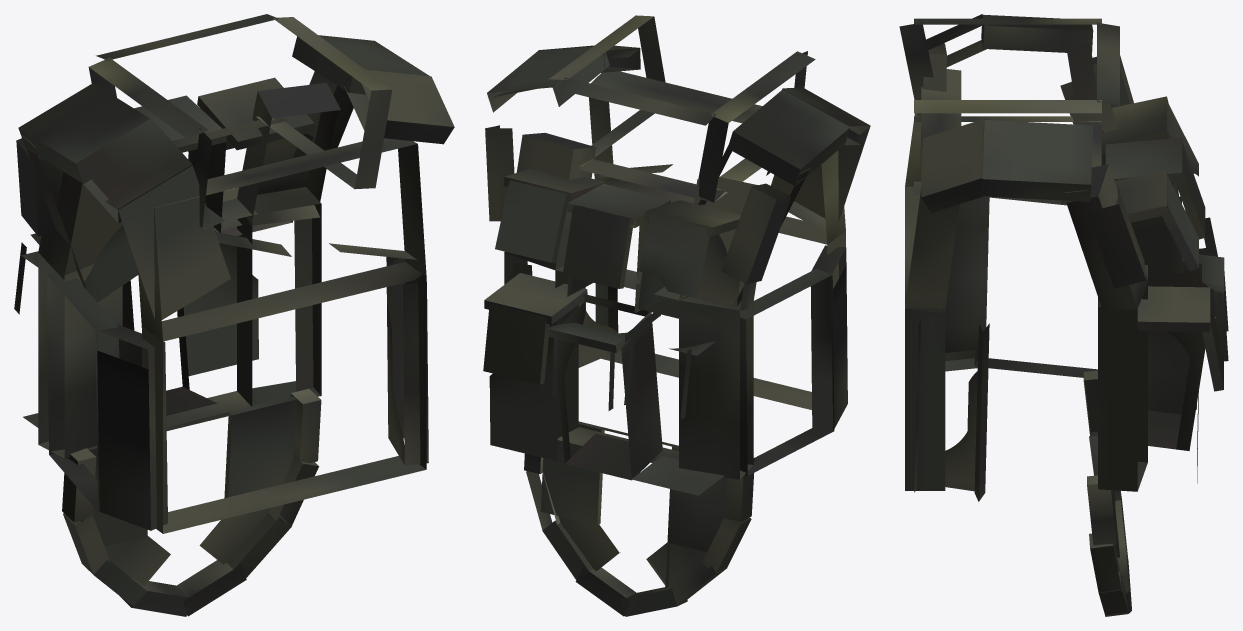
File: ratnik.obj
The picture shows the model from 3 angles, left to right: view 1: azimuth 30°, elevation 25°; view 2: azimuth 150°, elevation 25°; view 3: azimuth 270°, elevation 25°; orthographic projection. The views are drawn at different scales.
Parts seen in each view (by area): view 1: mesh; view 2: mesh; view 3: mesh.
Part boxes in pixels (x1=…): mesh: x1=14, y1=14, x2=454, y2=616; mesh: x1=483, y1=15, x2=870, y2=616; mesh: x1=899, y1=14, x2=1228, y2=616.
Bounding box in the file's own units: 0.7271 × 1.13 × 0.6134.
